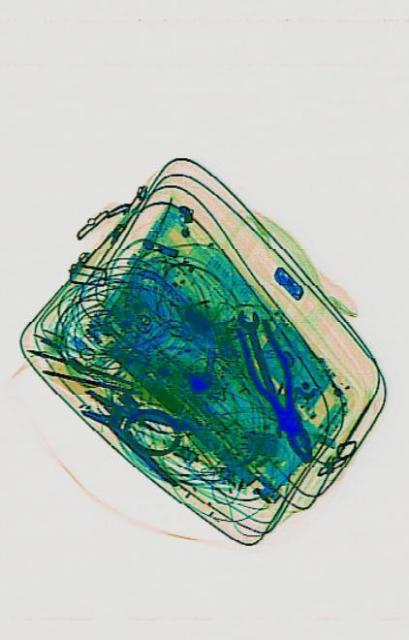Pliers: (229, 302, 324, 476), (73, 366, 197, 492)
Wrench: (233, 300, 289, 428)
